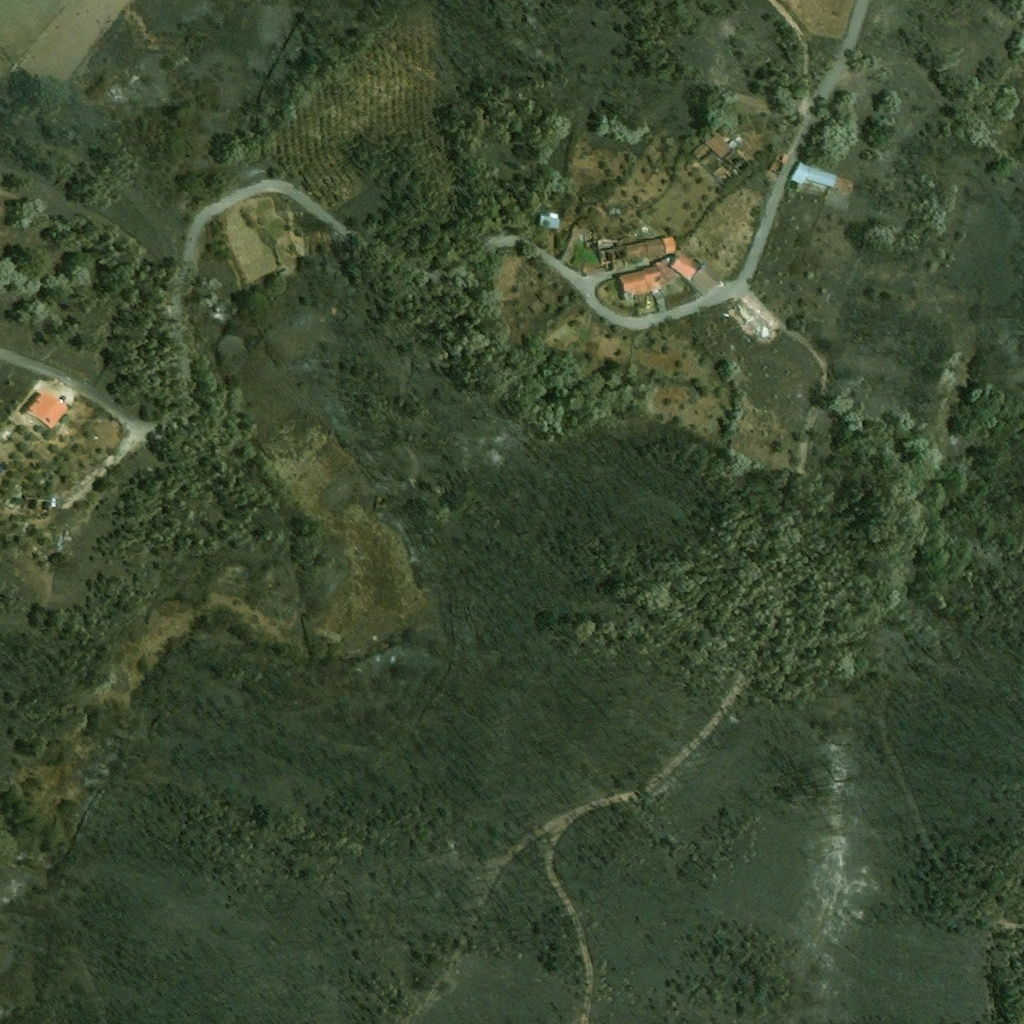0 no-damage: (668, 254, 722, 299), (20, 384, 69, 431), (790, 159, 836, 190), (835, 175, 855, 193), (540, 213, 559, 229)
1 minor-damage: (614, 259, 681, 312)
2 major-damage: (593, 236, 676, 273), (691, 133, 754, 179), (711, 164, 731, 183)
3 destroyed: (732, 295, 777, 339), (558, 222, 593, 264), (762, 152, 789, 183), (21, 494, 48, 512), (4, 490, 20, 509), (63, 529, 75, 541)
4 un-classified: (93, 419, 122, 449), (0, 206, 5, 219), (0, 184, 4, 194)
